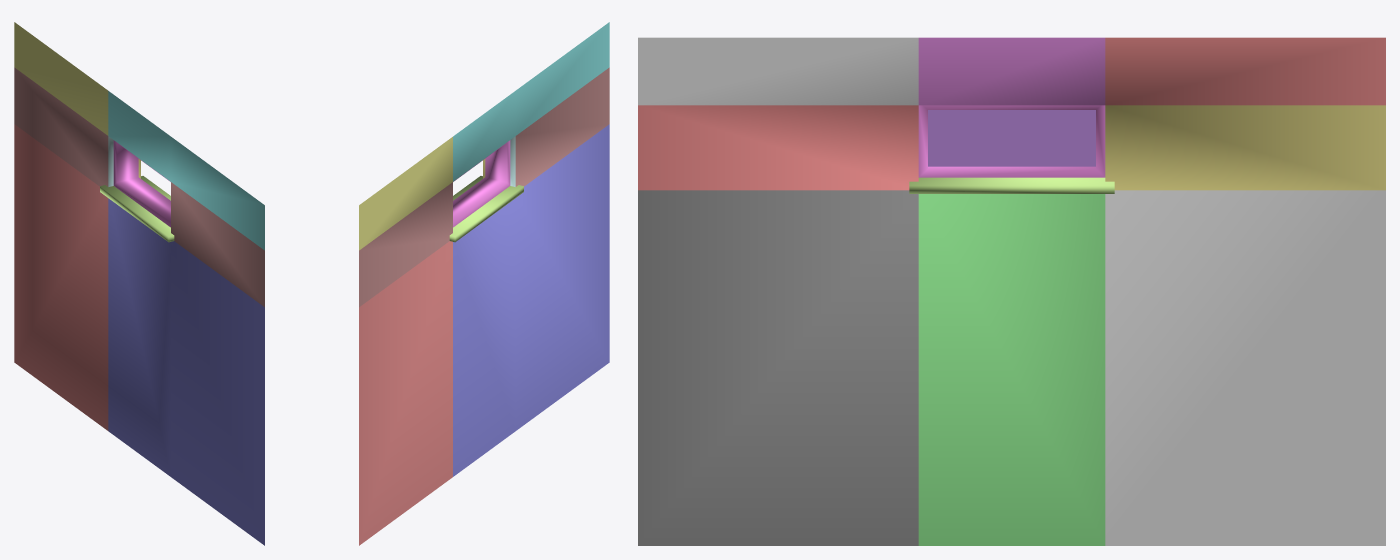
The model's file is SM_window_06.gltf.
3 views of the same model, side by side, from view 1: azimuth 30°, elevation 25°; view 2: azimuth 150°, elevation 25°; view 3: azimuth 270°, elevation 25° (orthographic). The views are drawn at different scales.
Visible parts, largest first — view 1: SM_window_06; view 2: SM_window_06; view 3: SM_window_06.
Boxes of the visible parts, x1,y1,x2,y2 form: SM_window_06: (14,22,264,545); SM_window_06: (359,22,609,545); SM_window_06: (638,37,1385,545).
Bounding box in the file's own units: 0.4 × 3 × 4.
